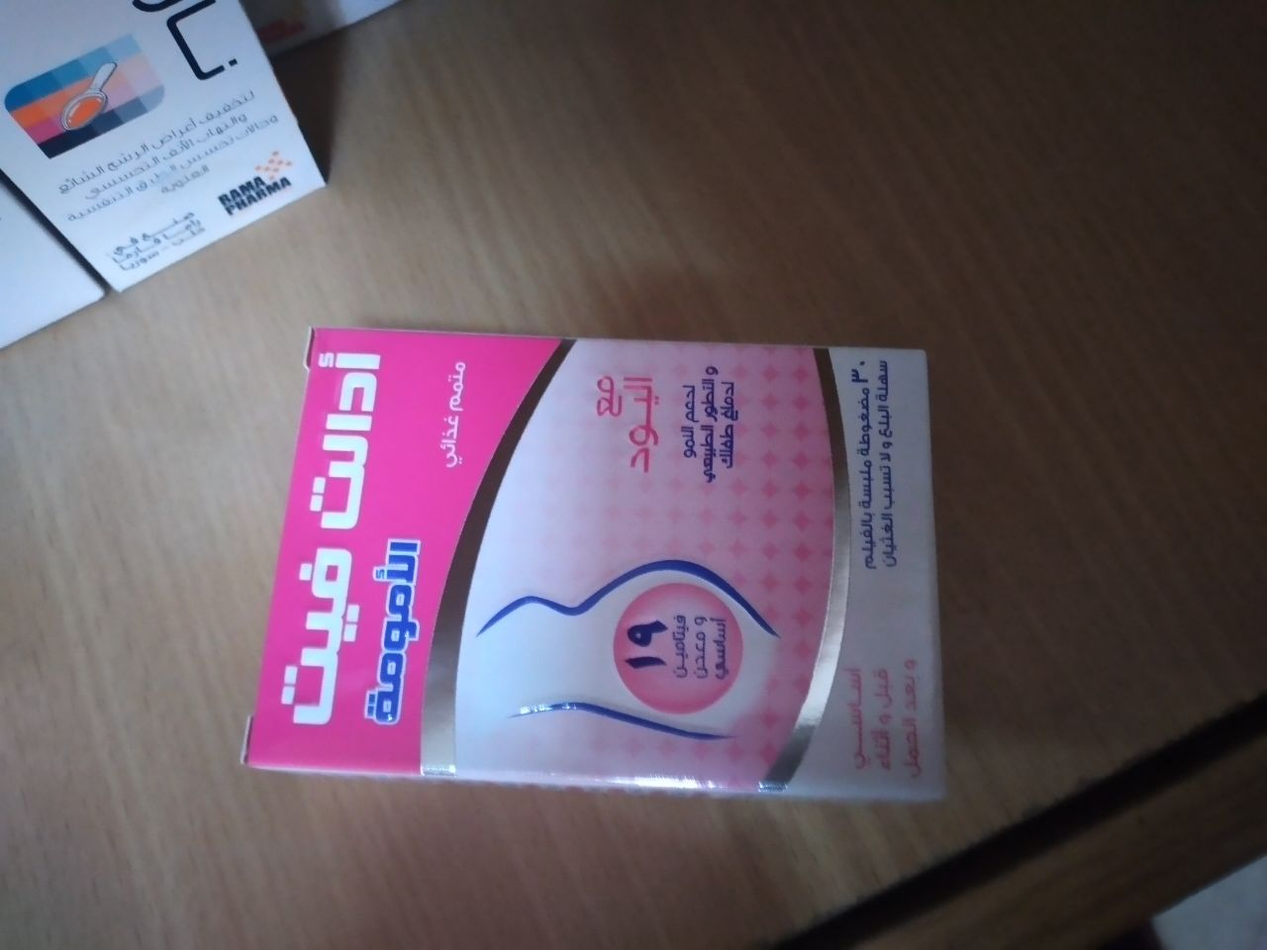Medicine: (238, 307, 958, 854)
